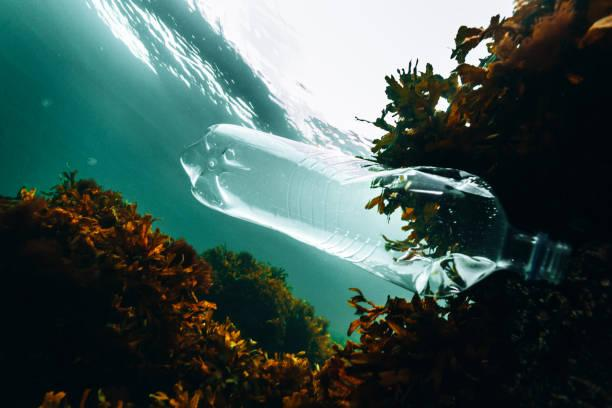Plastic: (171, 112, 579, 303)
